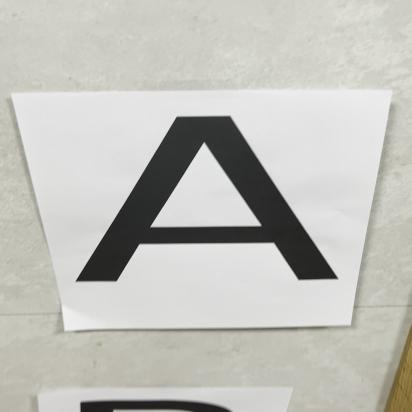seat: (72, 101, 368, 307)
